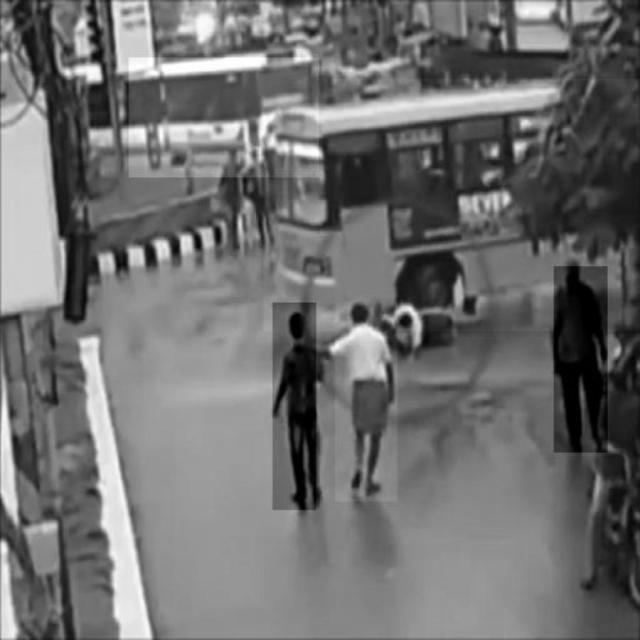accident: (264, 79, 640, 331)
person: (336, 302, 398, 502), (554, 266, 608, 452), (273, 303, 317, 510)
vehicle: (129, 58, 319, 178)
